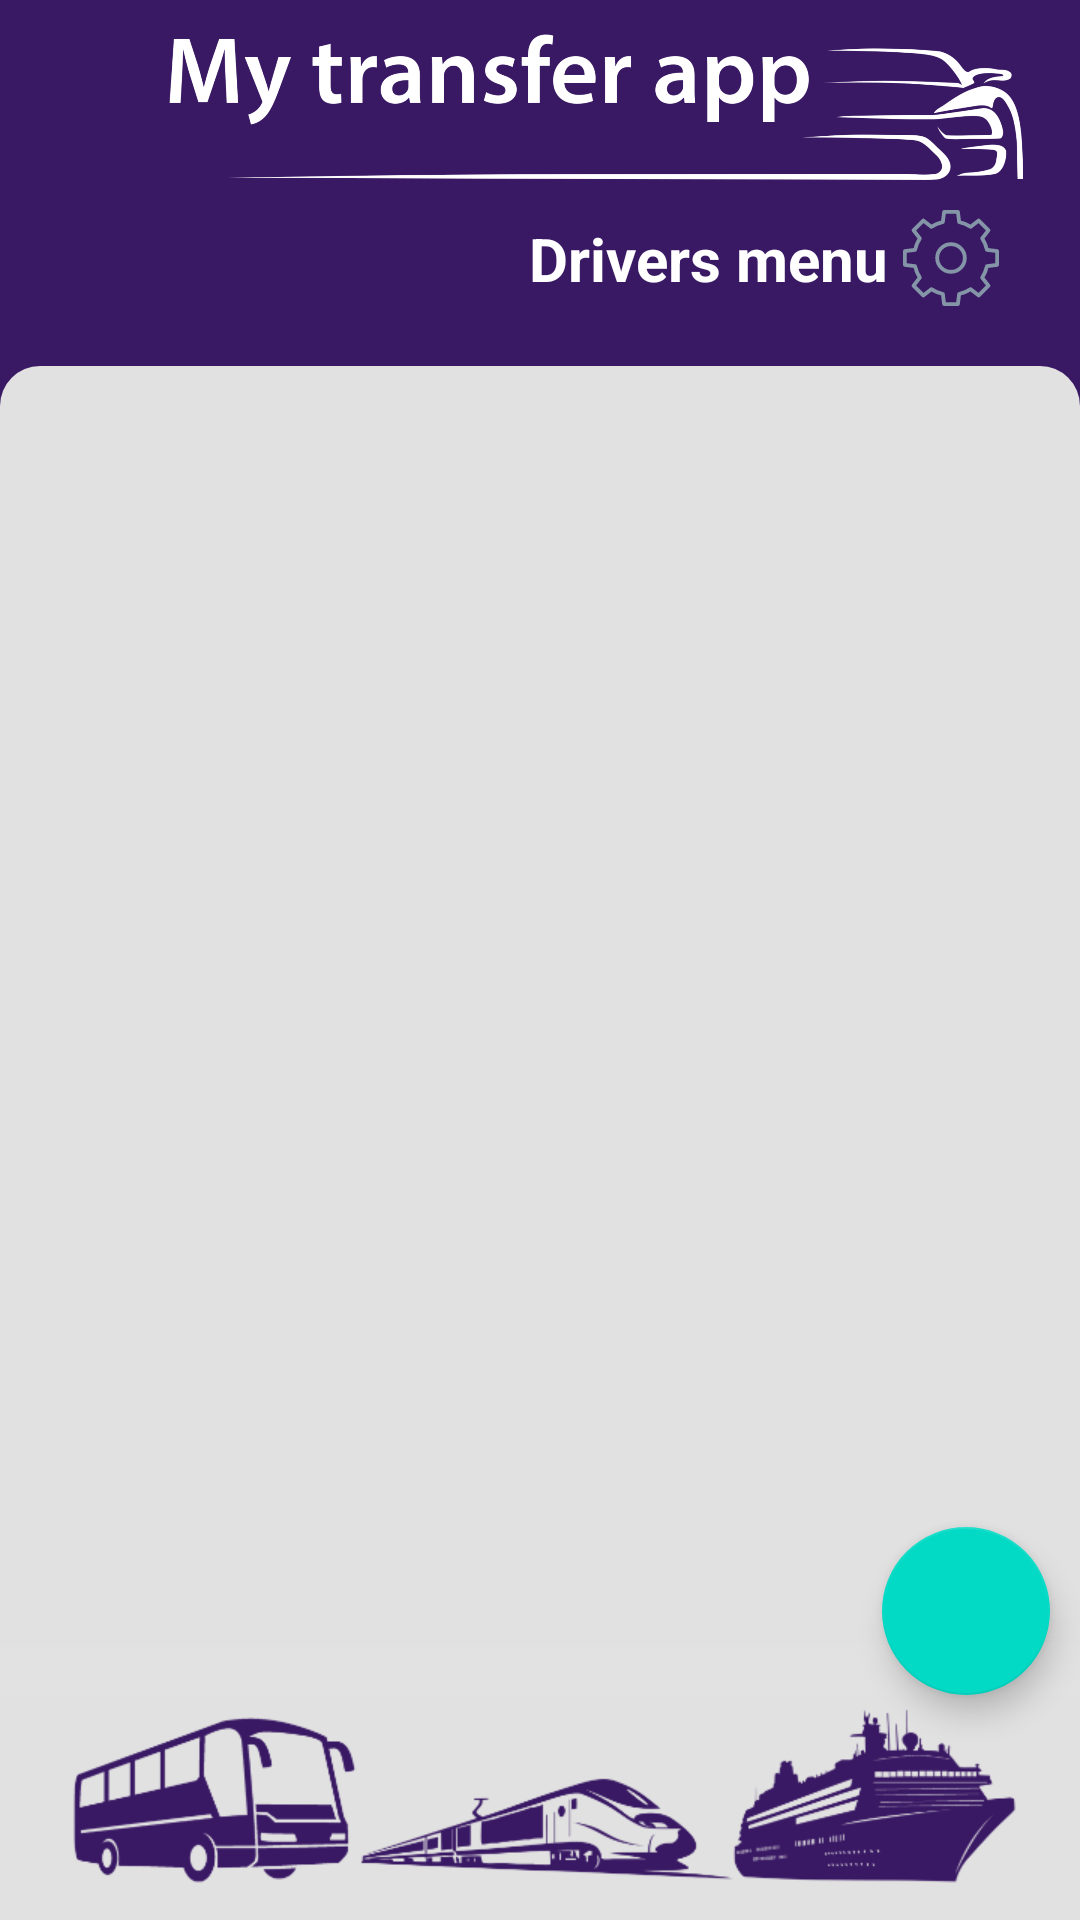

Named icons in this screenshot (1080 × 1920) and their centers, (x,y):
settings: (951,258)
